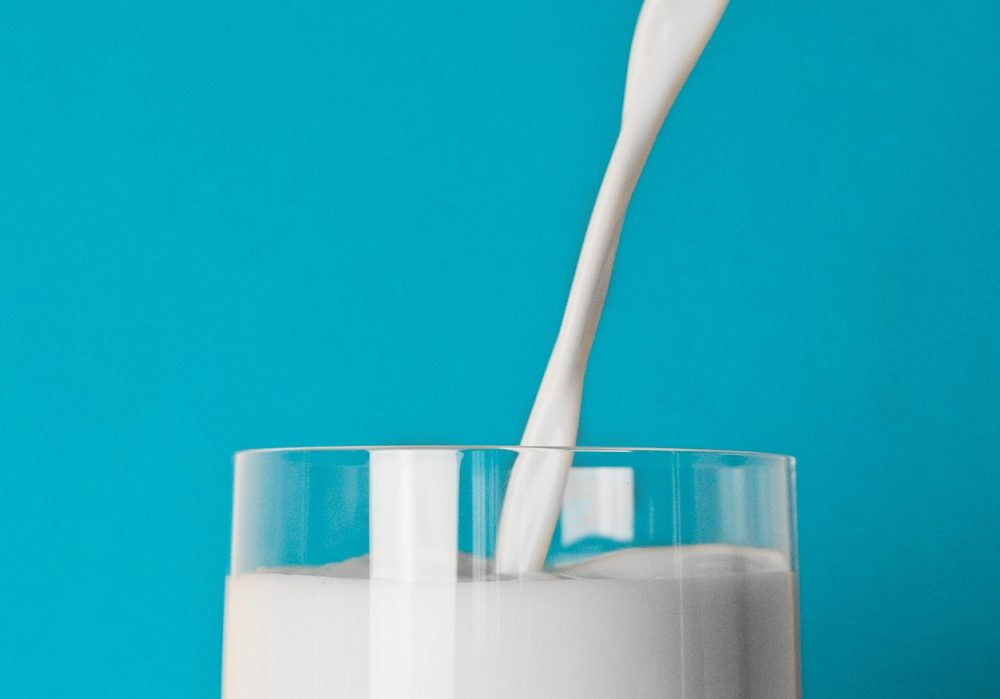glass of milk: (202, 429, 818, 699)
